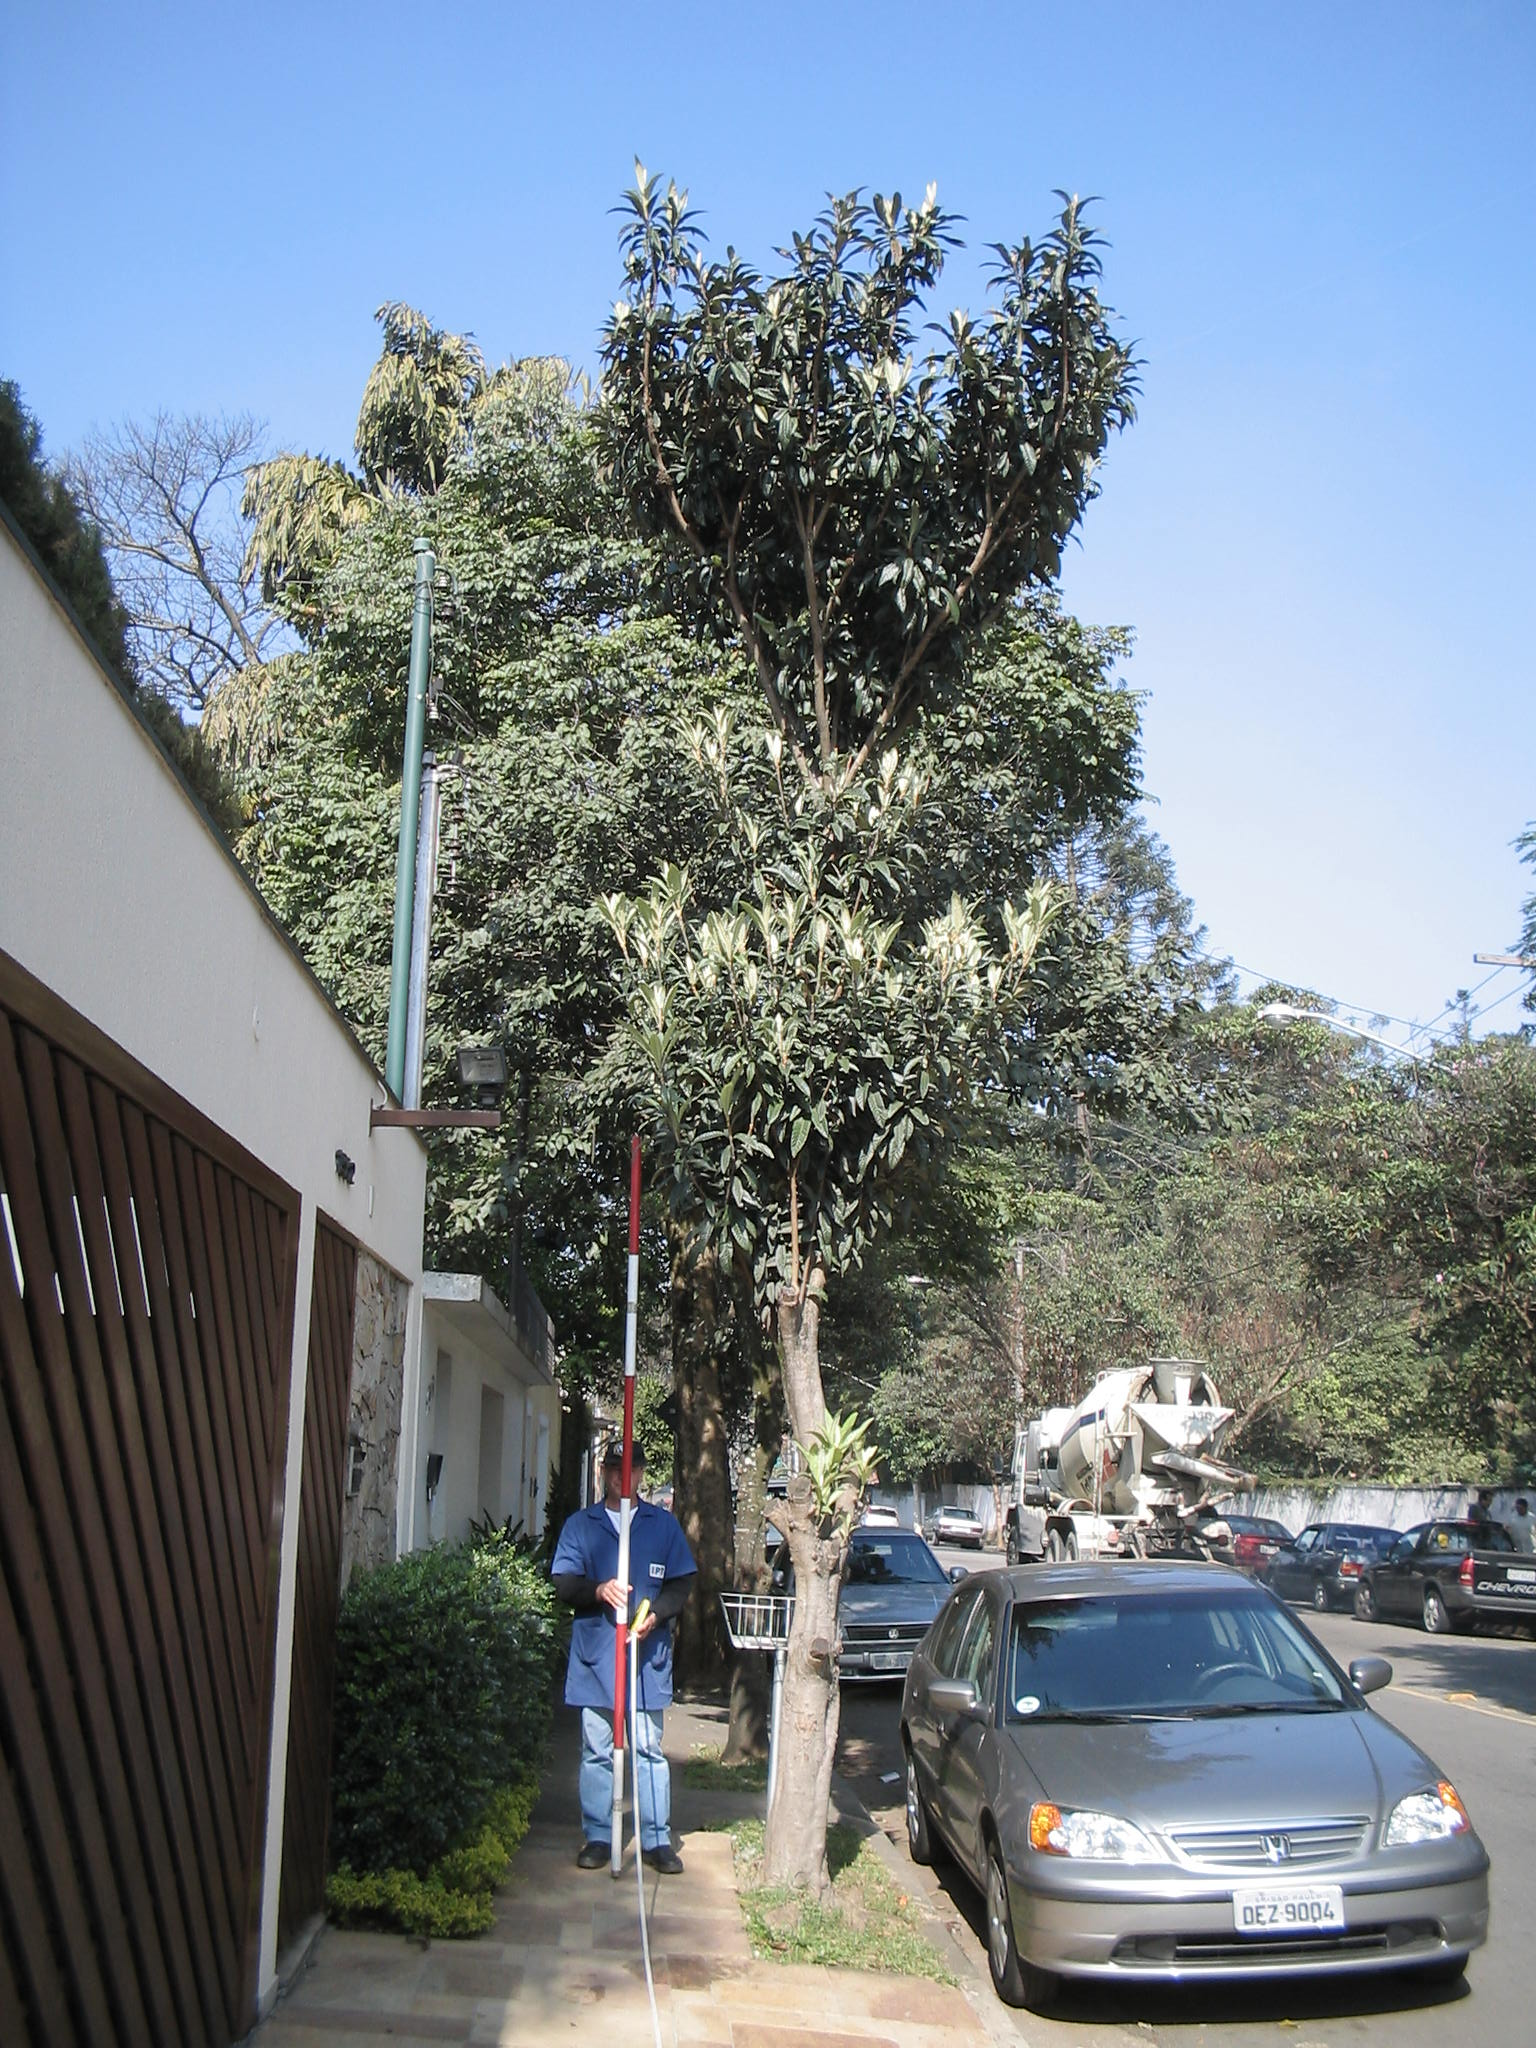crown: (403, 163, 1136, 1353)
stem: (737, 1453, 895, 1890)
stick: (565, 1137, 679, 1872)
tree: (395, 155, 1146, 1892)
